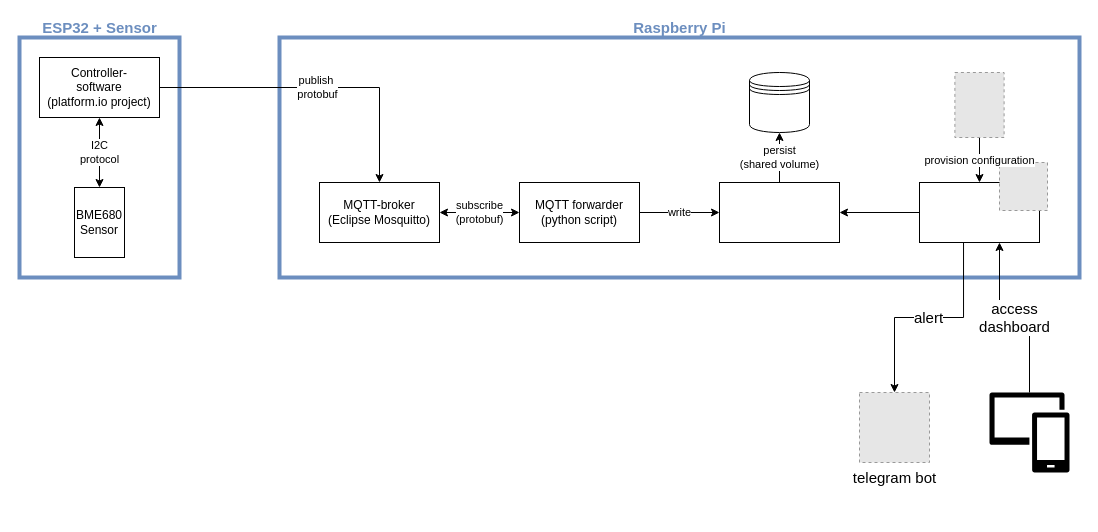
Image size: 1098x532. Some labels were removed from this diagram. Grey dashed boxes stand in for pictures. The box of each missing label's shape, as (x1, y1, x2, y2) in pixels:
any device in network: (989, 392, 1069, 472)
Grafana: (918, 182, 1040, 242)
Influx DB: (718, 182, 840, 242)
